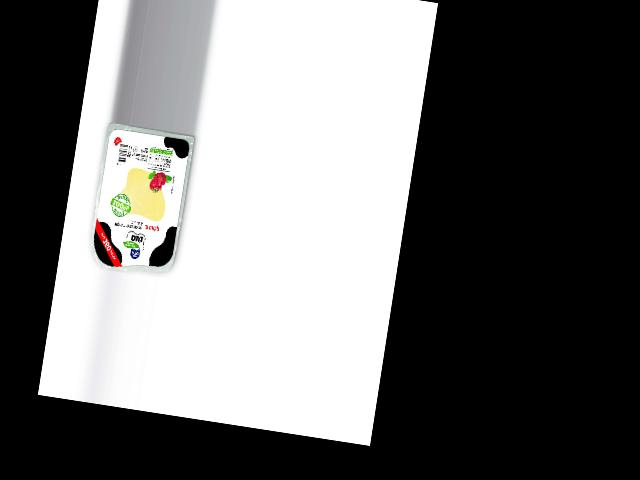cheese: (85, 122, 195, 280)
